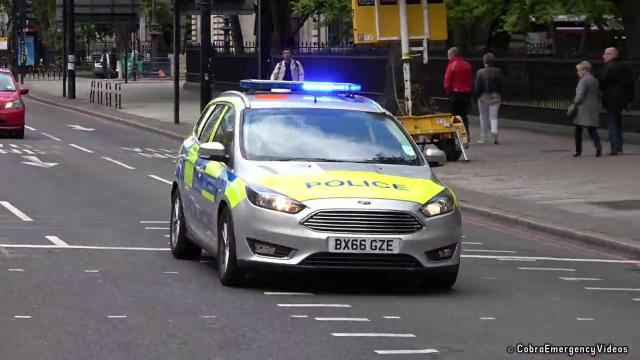police: (174, 78, 466, 290)
